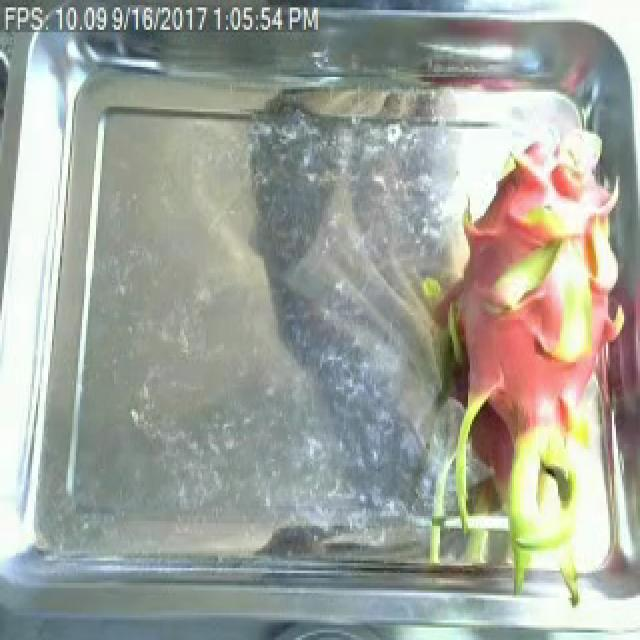fruit: (368, 139, 638, 600)
